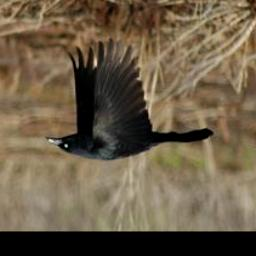Crow: (44, 38, 215, 163)
